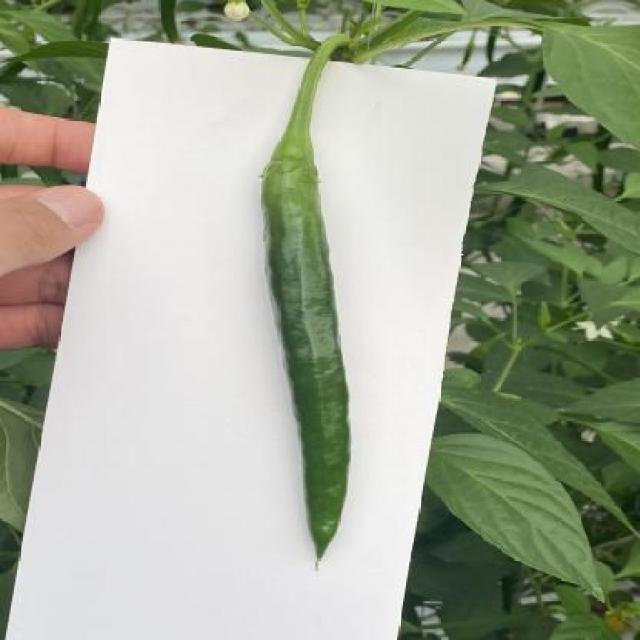green chilli: (260, 171, 351, 560)
